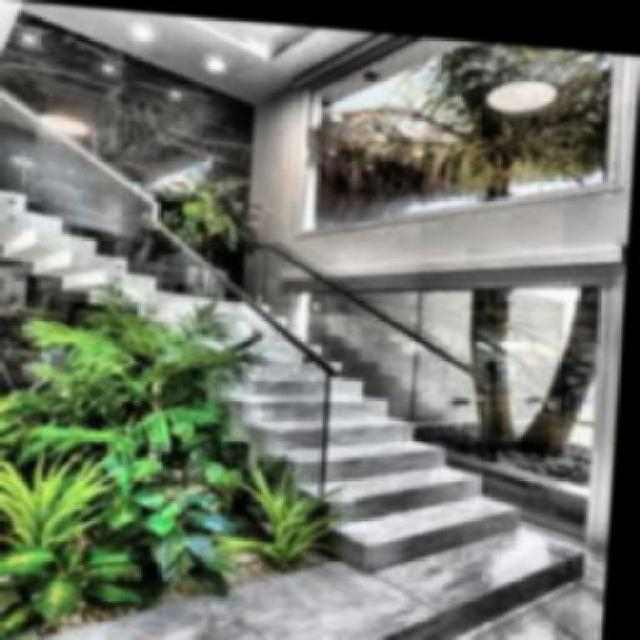stair: (155, 292, 548, 572)
